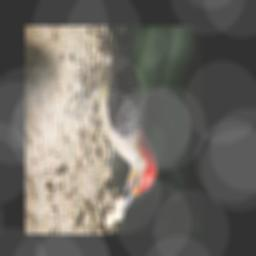Woodpecker: (62, 27, 157, 214)
